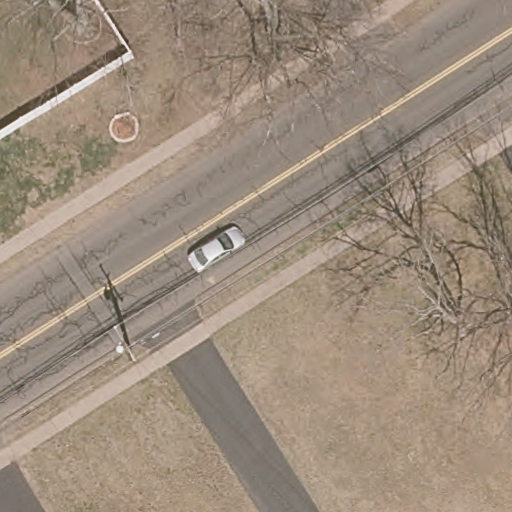DT: (111, 320, 140, 362)
